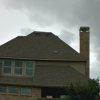Chimney: (68, 20, 94, 72)
